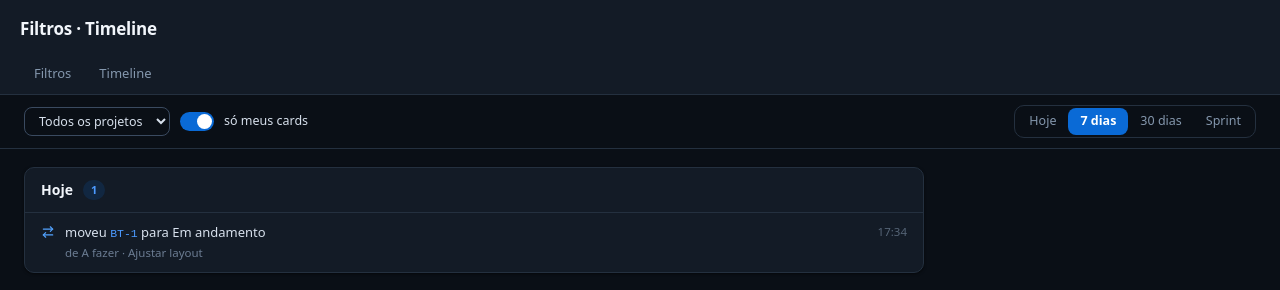
Scenario: Timeline › desligar "só meus cards" mostra o autor da atividade
Expected: the text "BT-1" is shown, x1=110 y1=227 x2=138 y2=240
Expected: the text "Fulano" is not shown
Click the switch named "só meus cards": point(197, 121) x1=180 y1=112 x2=214 y2=131
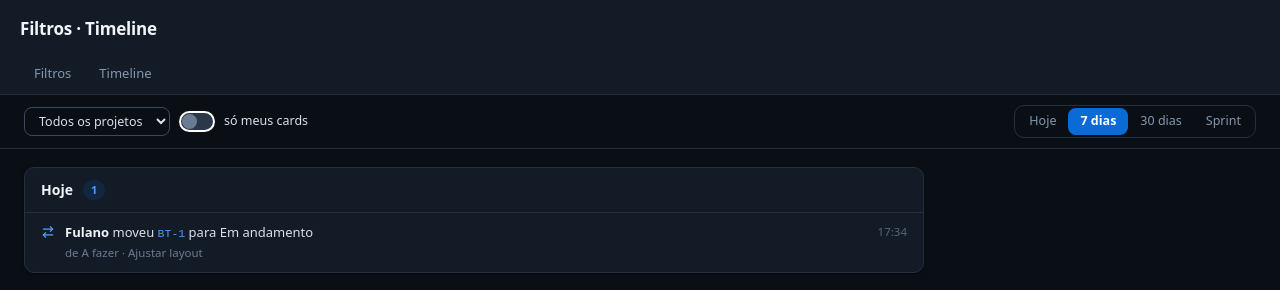
Expected: the text "Fulano" is shown, x1=65 y1=223 x2=112 y2=241
